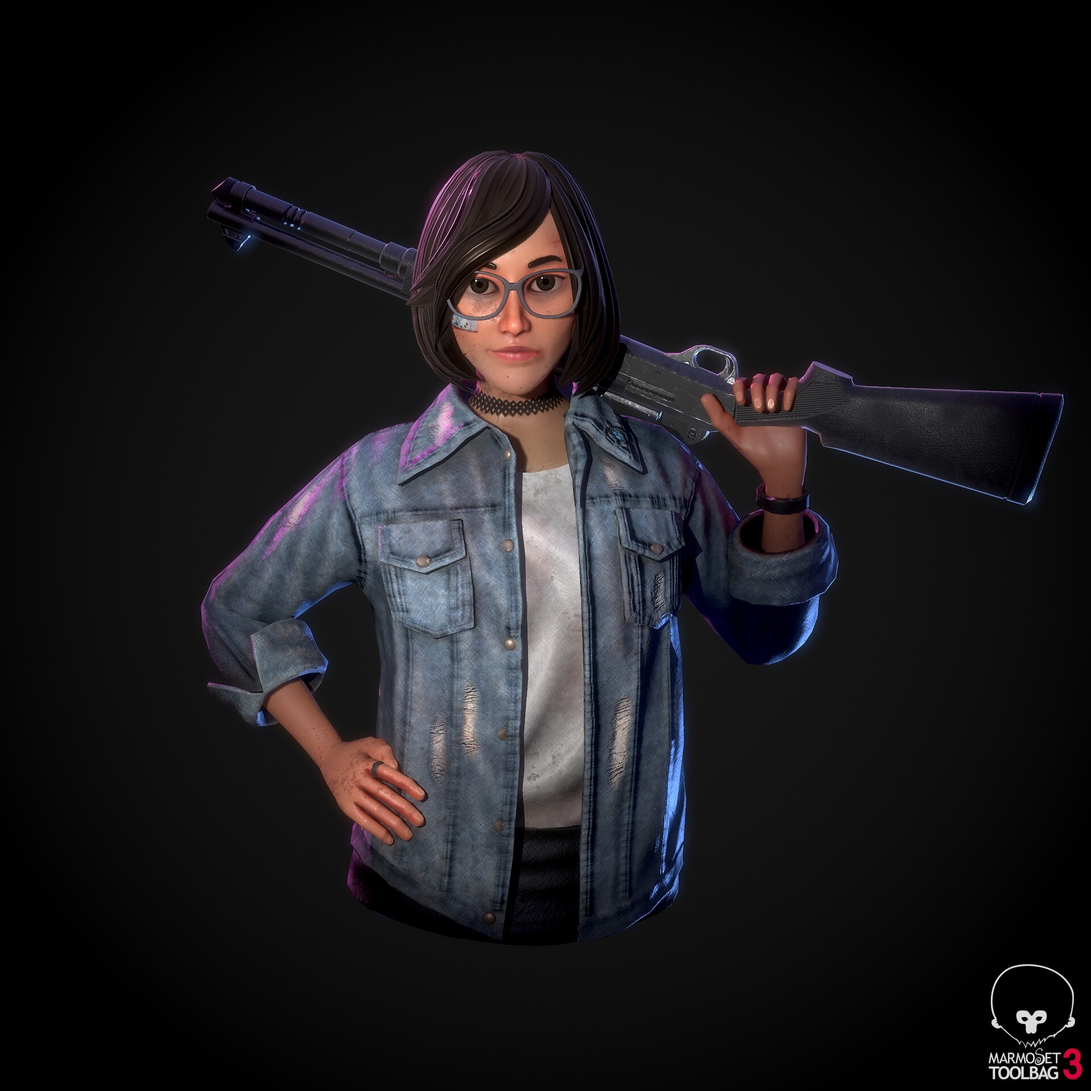-: (187, 141, 841, 958)
